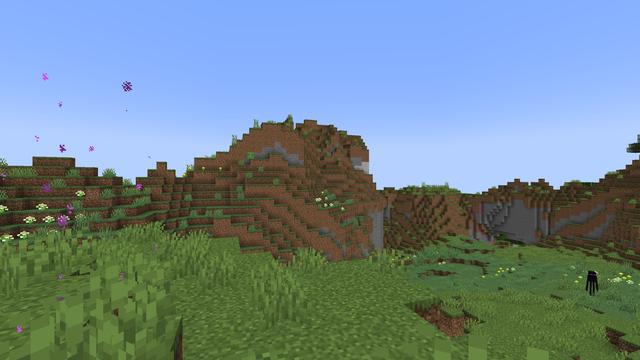endermens: (587, 269, 596, 296)
slimes: (246, 151, 253, 158)
